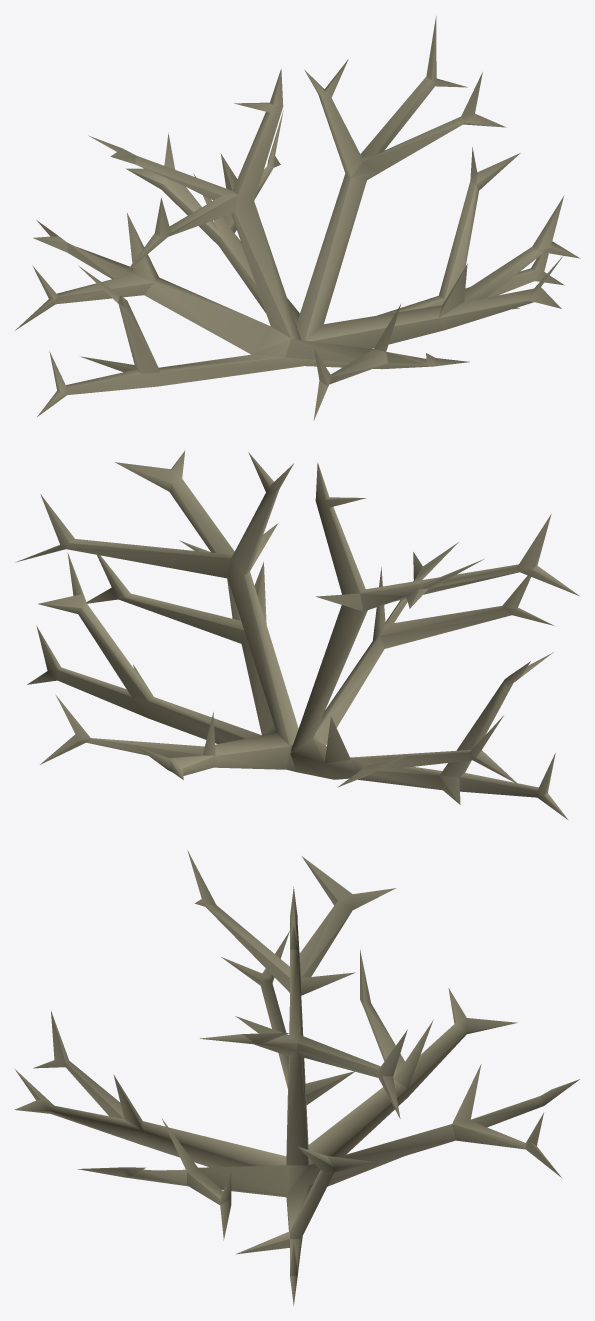
3 renders of one model, top to bottom at view 1: azimuth 30°, elevation 25°; view 2: azimuth 150°, elevation 25°; view 3: azimuth 270°, elevation 25°, orthographic. The views are drawn at different scales.
Visible parts, largest first — view 1: model; view 2: model; view 3: model.
Part boxes in pixels (x1,y1,x2,y2): model: (15, 16, 580, 420); model: (15, 450, 579, 820); model: (14, 850, 579, 1306).
Bounding box in the file's own units: 1.28 × 0.6953 × 1.2.
